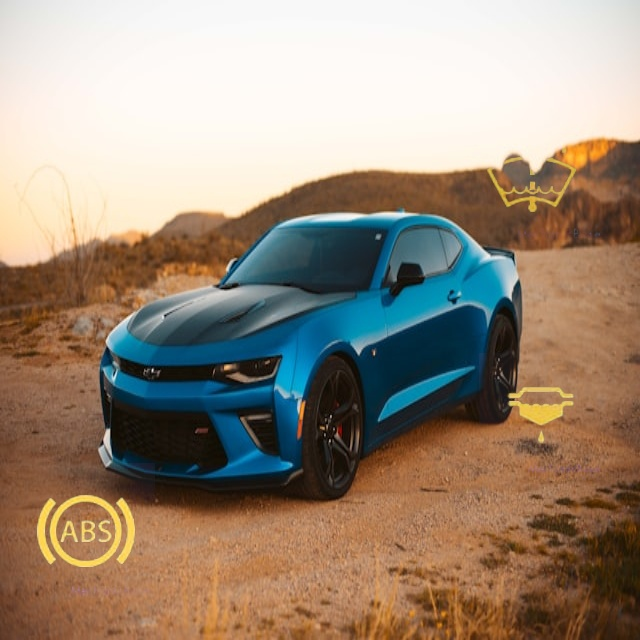symbol: (459, 99, 606, 246), (16, 463, 155, 602), (479, 353, 605, 479)
